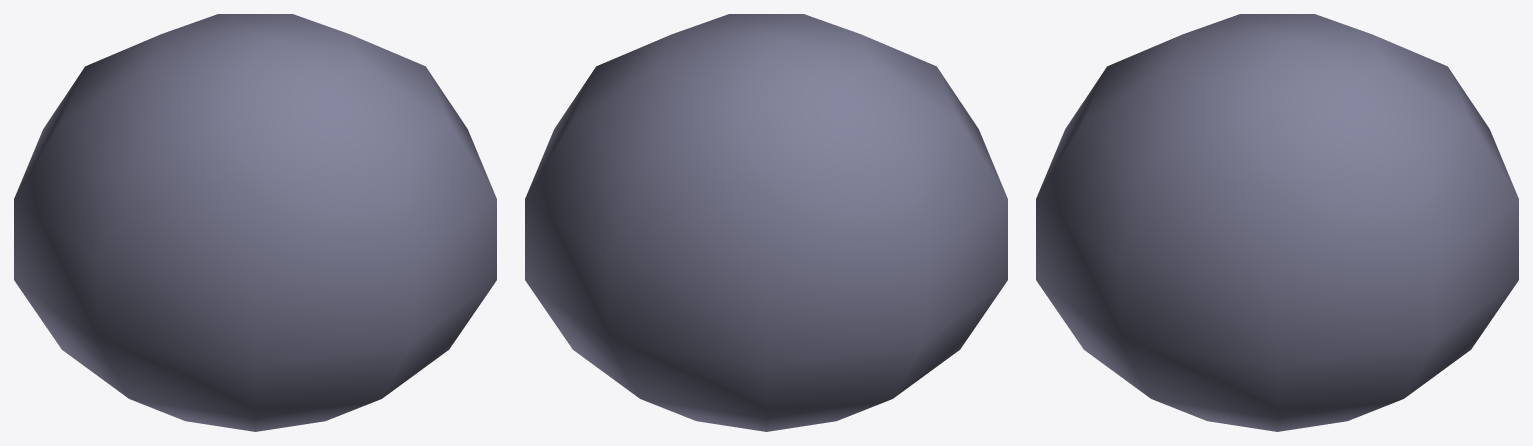
The model's file is scraplet_stage1.obj.
3 views of the same model, side by side, from view 1: azimuth 30°, elevation 25°; view 2: azimuth 150°, elevation 25°; view 3: azimuth 270°, elevation 25° (orthographic).
Bounding box in the file's own units: 1.23 × 1.04 × 1.25.
